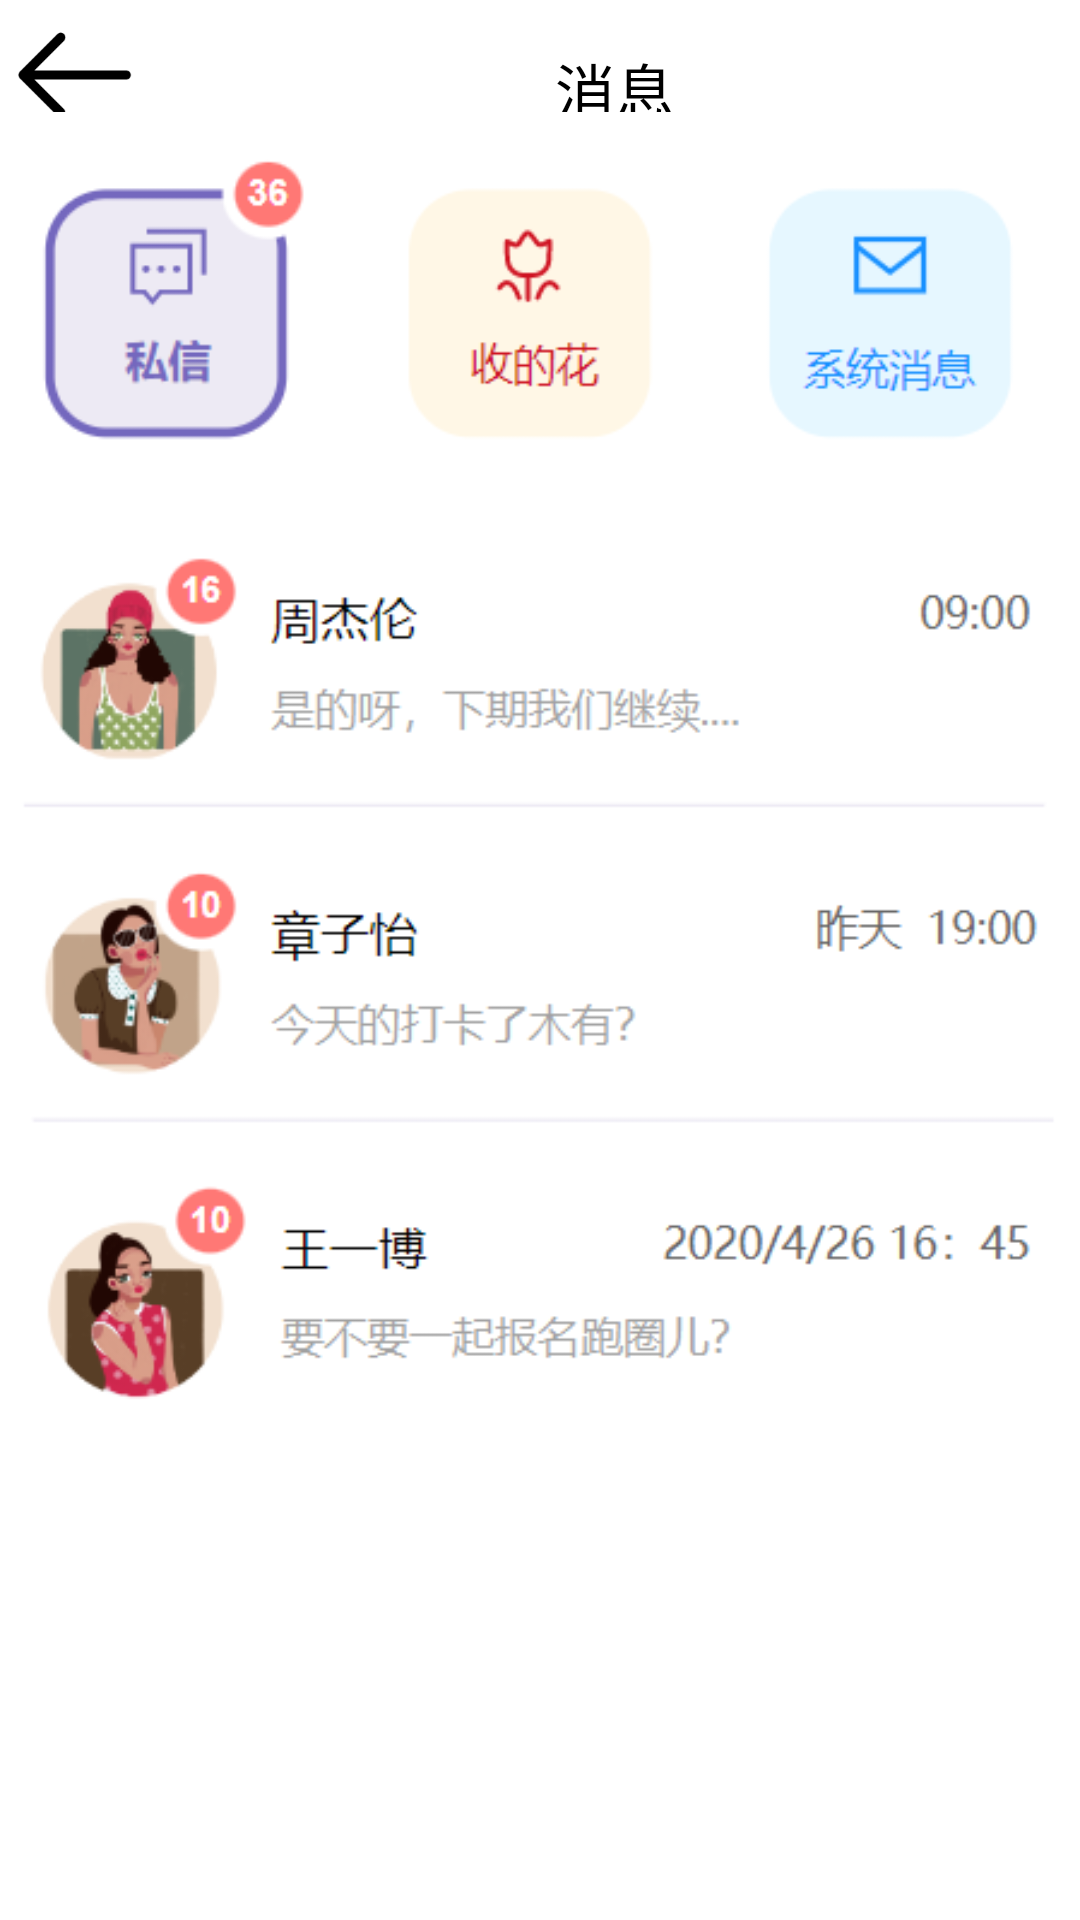

Icon bounding boxes for this 1080px×1920px phone screenshot, format (left=x1, top=y1, right=x2, bottom=y2):
return last: (left=18, top=32, right=131, bottom=112)
